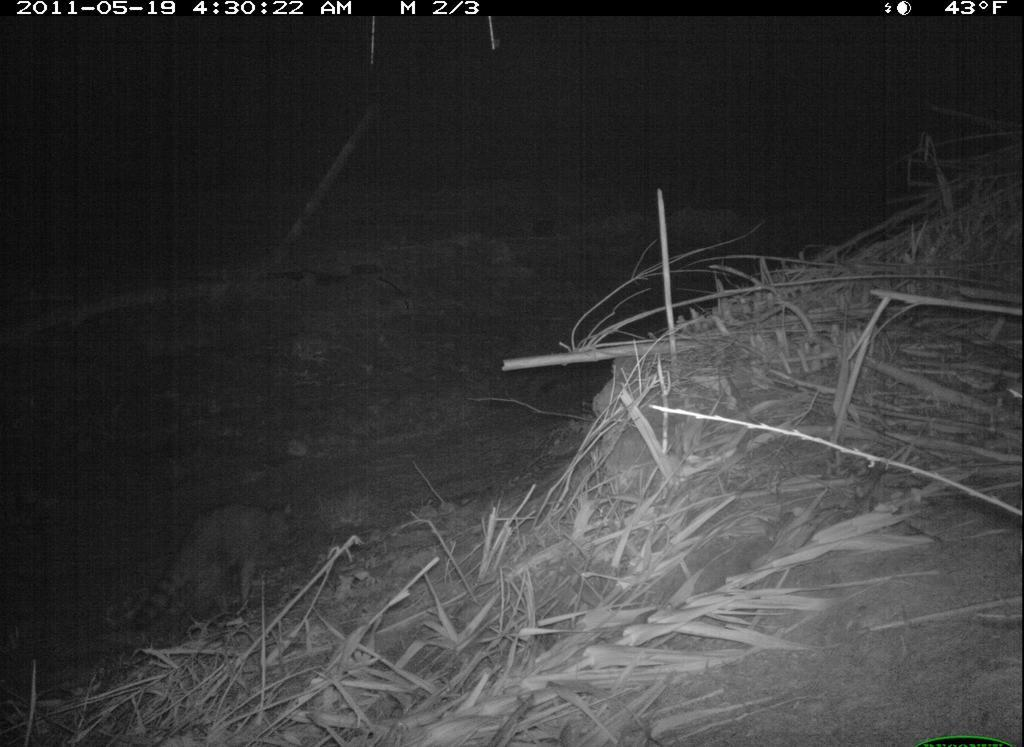rabbit: (118, 475, 322, 657)
